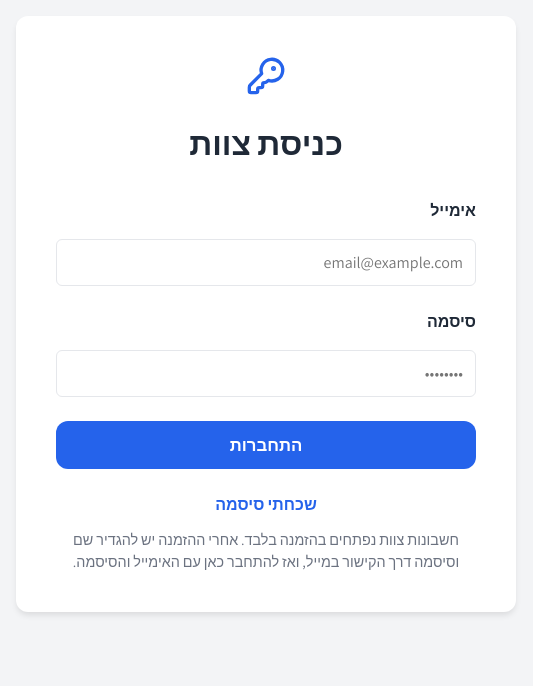
it: LoginPage › shows a generic Hebrew error for unexpected failures
This screenshot has width=533, height=686.
Check: the heading "כניסת צוות" is shown, box [189,122,343,164]
Type "staff@example.com" into the field labelled "אימייל" at (266, 262), box [56,239,476,286]
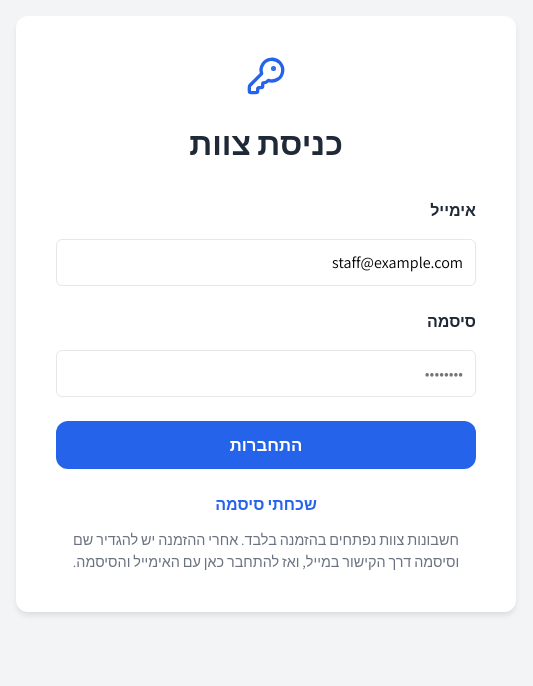
Type "secret123" into the password field labelled "סיסמה" at (266, 374), box [56,350,476,397]
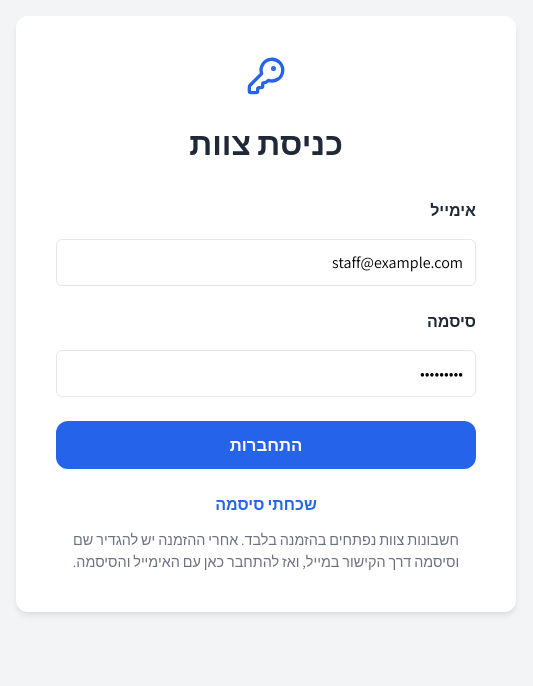
Click the button "התחברות" at (266, 445), box [56,421,476,469]
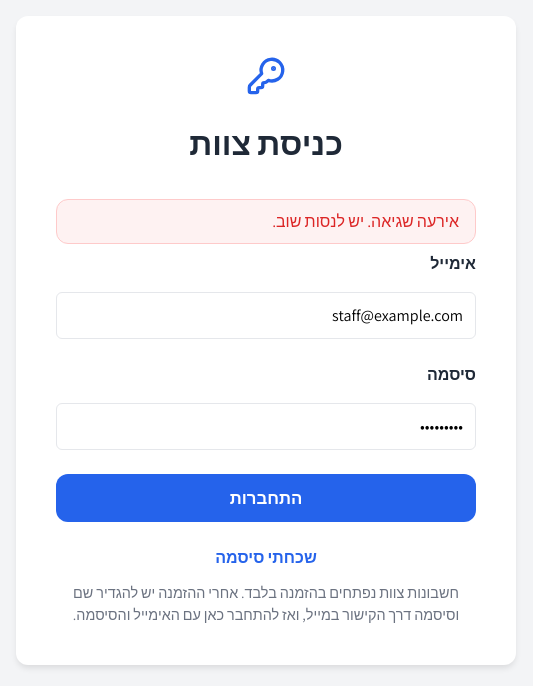
Check: the text "אירעה שגיאה. יש לנסות שוב." is shown, box [56,199,476,244]
